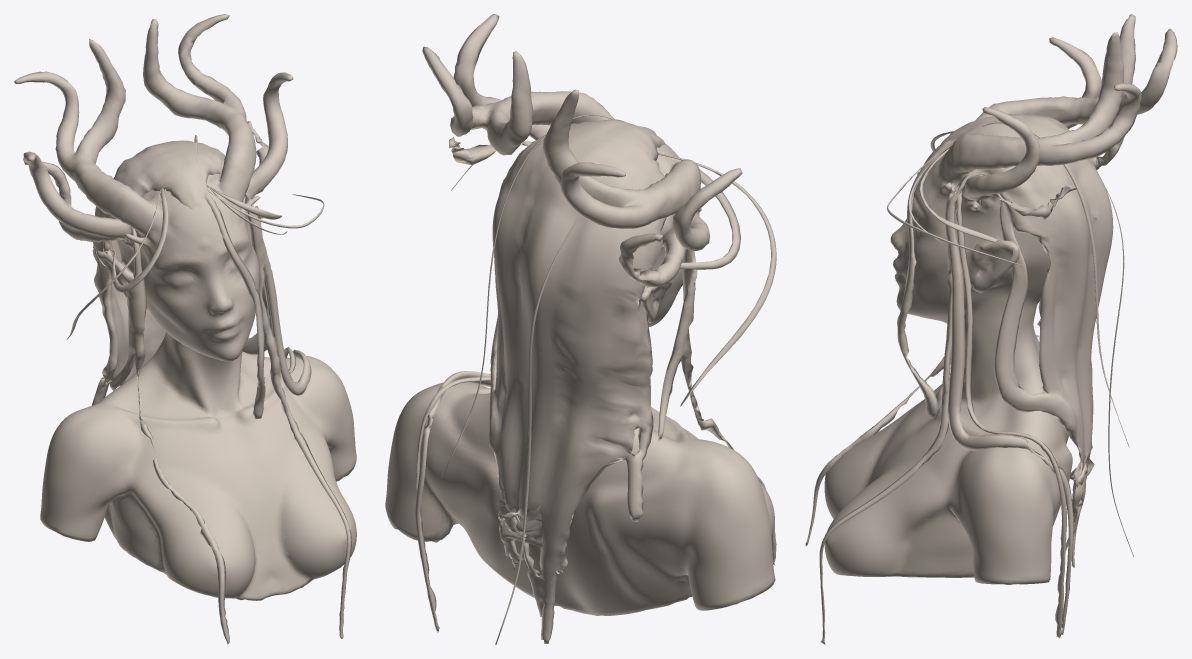
File: preview.glb
3 views of the same model, side by side, from view 1: azimuth 30°, elevation 25°; view 2: azimuth 150°, elevation 25°; view 3: azimuth 270°, elevation 25° (orthographic). The views are drawn at different scales.
Visible parts, largest first — view 1: Faun_LP.001_glb; view 2: Faun_LP.001_glb; view 3: Faun_LP.001_glb.
Part boxes in pixels (<box>): Faun_LP.001_glb: <box>14,14,356,644</box>; Faun_LP.001_glb: <box>385,14,776,644</box>; Faun_LP.001_glb: <box>805,14,1177,644</box>.
Size of the model in its own units: 0.5989 by 1 by 0.5776.
